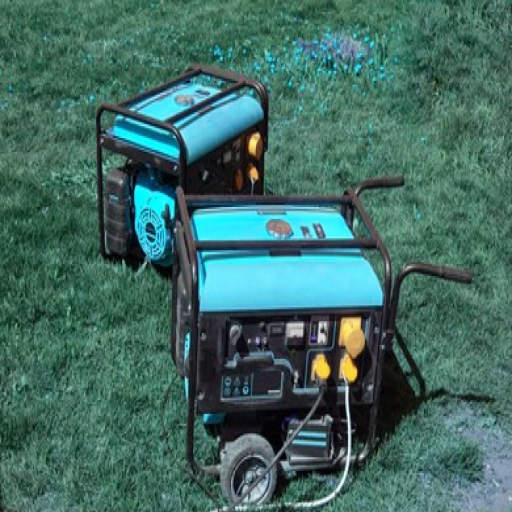portable_generator: (174, 188, 396, 477), (94, 62, 270, 271)
